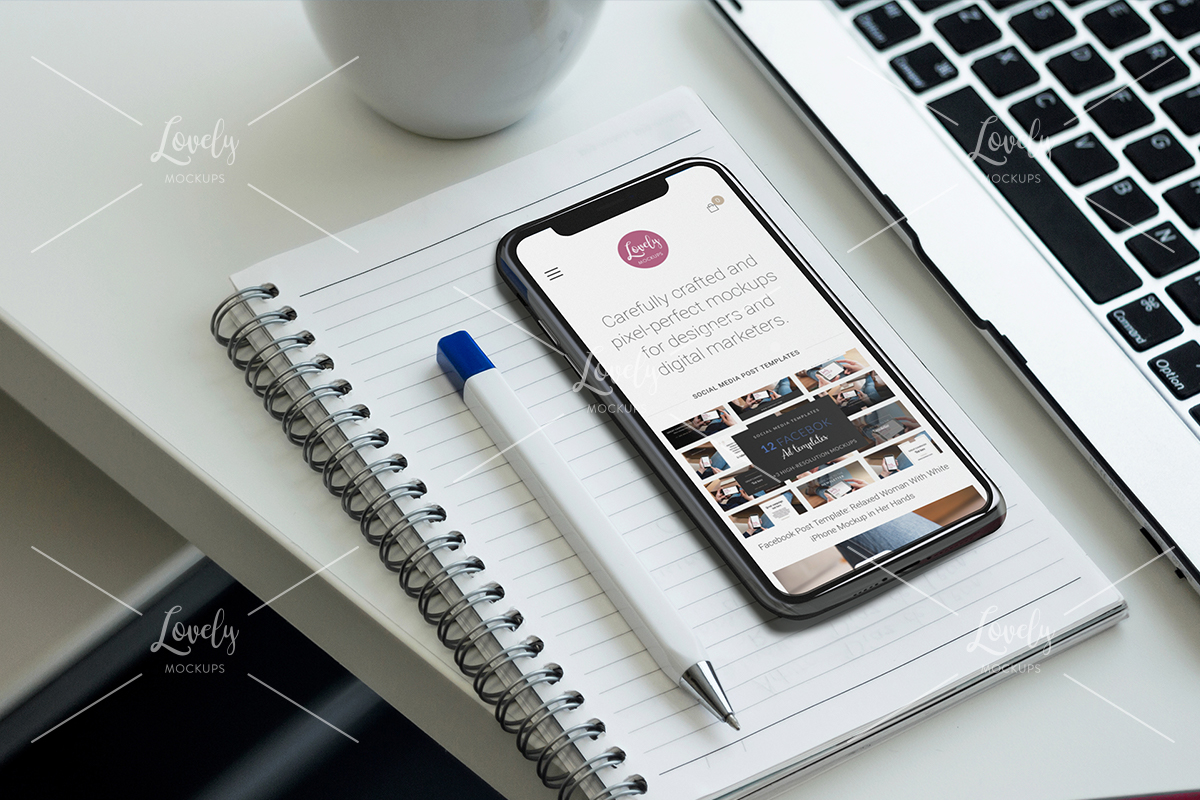Cell Phone: (498, 155, 1010, 610)
